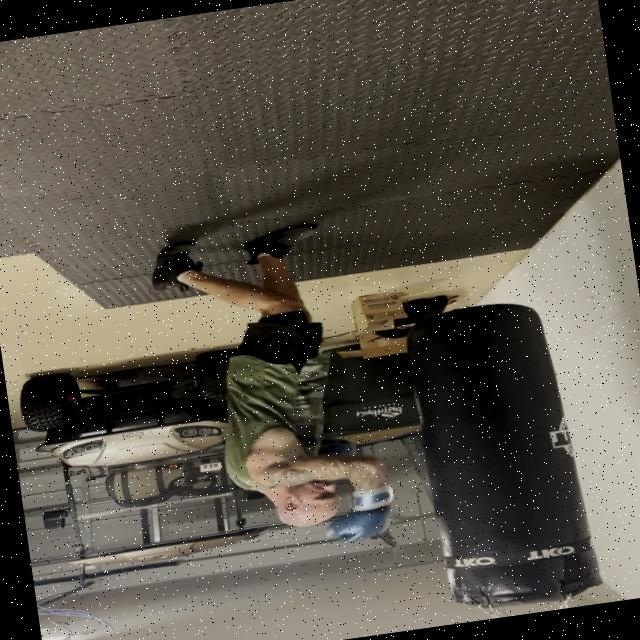bag: (404, 287, 594, 622)
uppercut: (221, 420, 413, 568)
